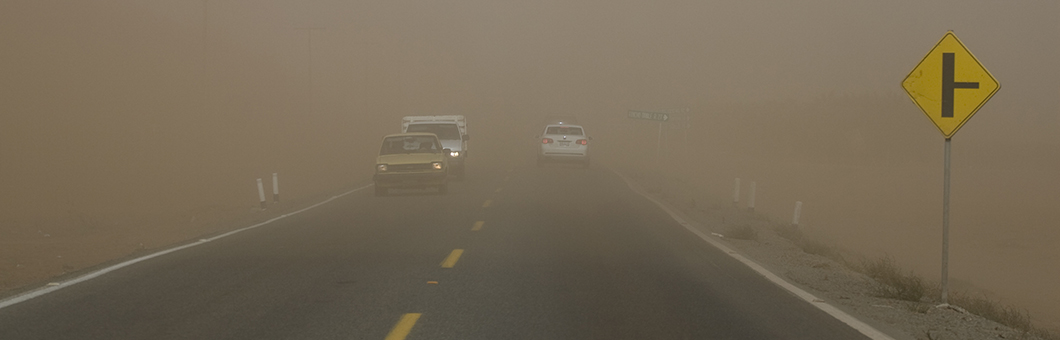car: (374, 131, 447, 194), (538, 121, 590, 166)
truck: (397, 113, 468, 183)
